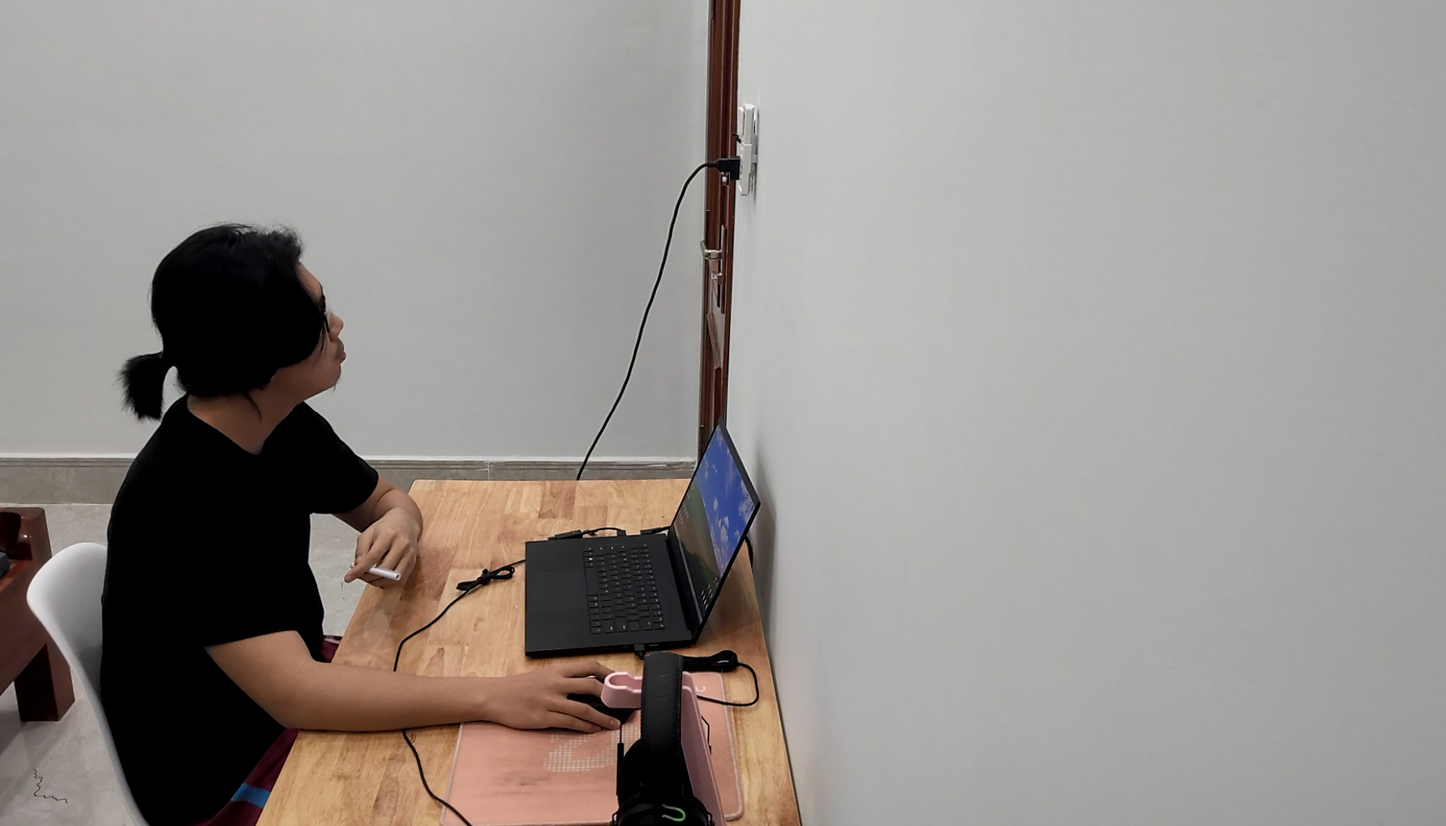cigarette: (349, 559, 406, 594)
person: (100, 196, 424, 826)
